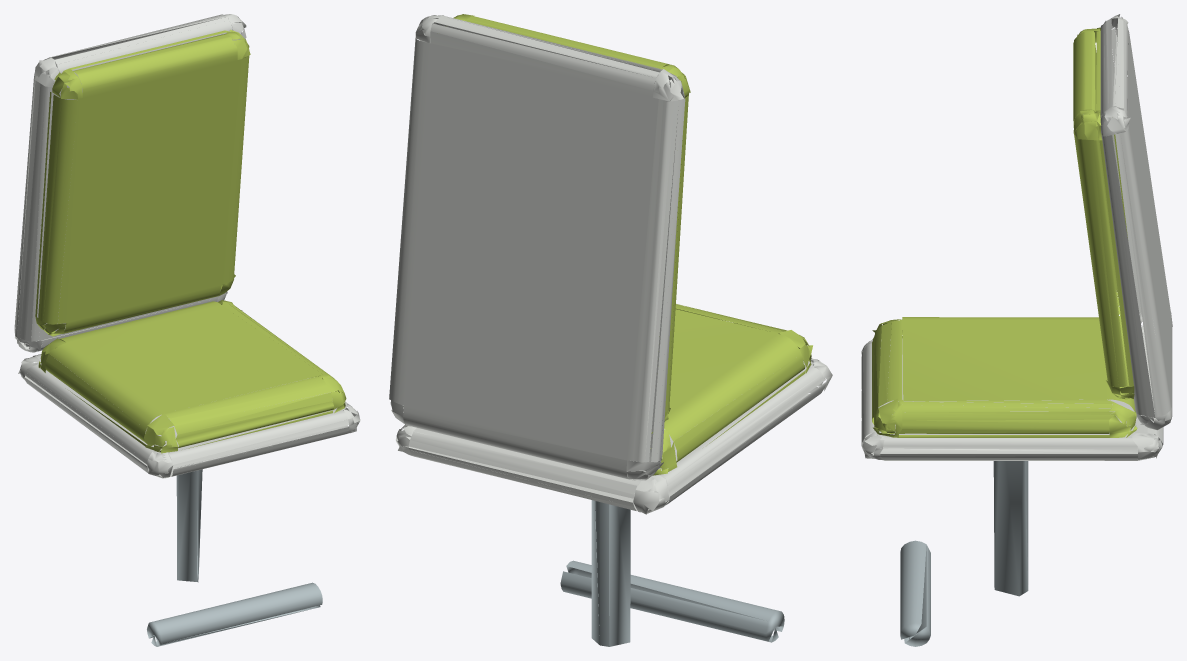
Rendered from angers305_seat.glb.
The picture shows the model from 3 angles, left to right: view 1: azimuth 30°, elevation 25°; view 2: azimuth 150°, elevation 25°; view 3: azimuth 270°, elevation 25°; orthographic projection. The views are drawn at different scales.
Visible parts, largest first — view 1: Seat; view 2: Seat; view 3: Seat.
Boxes of the visible parts, x1,y1,x2,y2 form: Seat: (14,14,360,646); Seat: (389,14,832,646); Seat: (861,14,1172,646).
Size of the model in its own units: 0.461 by 1.08 by 0.5608.
